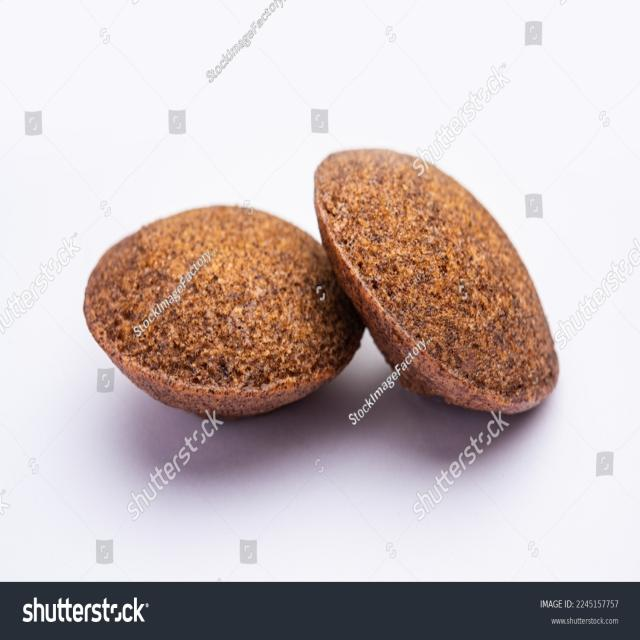IDLI: (317, 141, 565, 417), (89, 197, 367, 420)
